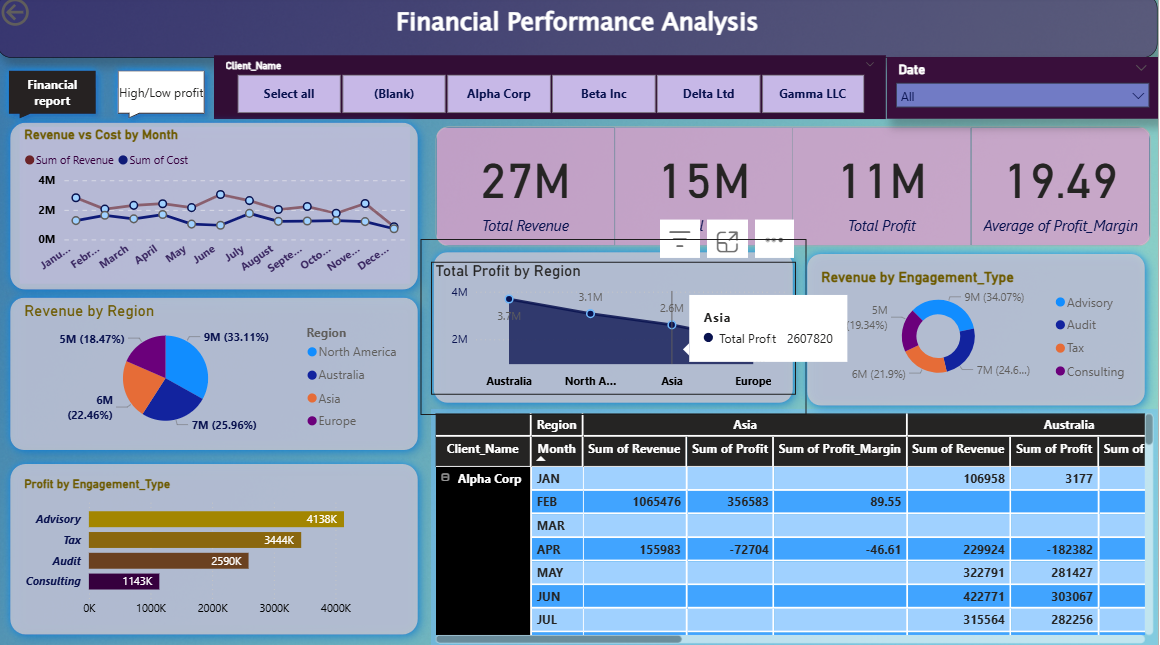

The dashboard page shown, as its layout file describes it:
{"tool":"powerbi","page":{"name":"Financial report","canvas":[1280,720],"ordinal":0},"visuals":[{"type":"textbox","box":[0,0,1279.6,70.3],"z":0},{"type":"shape","box":[0,126.6,478.1,212.9],"z":1000,"group":"g1"},{"type":"lineChart","title":" Revenue vs  Cost by Month","fields":{"Y":["Sum(Fin_DB.Revenue)","Sum(Fin_DB.Cost)"],"Category":["Fin_DB.Date.Variation.Date Hierarchy.Month"]},"box":[24.1,146.7,429.9,172.8],"z":2000,"group":"g1"},{"type":"shape","box":[0,319.4,478.1,196.9],"z":3000,"group":"g2"},{"type":"shape","box":[0,502.2,478.1,217],"z":4000,"group":"g5"},{"type":"pieChart","title":" Revenue by Region","fields":{"Y":["Sum(Fin_DB.Revenue)"],"Category":["Fin_DB.Region"]},"box":[24.1,339.5,429.9,148.7],"z":5000,"group":"g2"},{"type":"barChart","title":" Profit by Engagement_Type","fields":{"Y":["Sum(Fin_DB.Profit)"],"Category":["Fin_DB.Engagement_Type"]},"box":[24.1,530.3,421.8,162.7],"z":6000,"group":"g5"},{"type":"cardVisual","fields":{"Data":["Fin_DB.Total Revenue","Fin_DB.Total Cost","Fin_DB.Total Profit","Avg(Fin_DB.Profit_Margin)"]},"box":[478.1,140.6,801.5,142.6],"z":7000},{"type":"pivotTable","fields":{"Rows":["Fin_DB.Client_Name","DATE TABLE.Month"],"Values":["Sum(Fin_DB.Revenue)","Sum(Fin_DB.Profit)","Sum(Fin_DB.Profit_Margin)"],"Columns":["Fin_DB.Region"]},"box":[478.1,456,801.5,263.2],"z":8000},{"type":"shape","box":[466,269.2,425.9,194.9],"z":9000,"group":"g3"},{"type":"shape","box":[879.9,271.2,401,196],"z":10000,"group":"g4"},{"type":"areaChart","fields":{"Y":["Fin_DB.Total Profit"],"Category":["Fin_DB.Region"]},"box":[478.1,293.3,401.8,146.6],"z":11000,"group":"g3"},{"type":"donutChart","title":" Revenue by Engagement_Type","fields":{"Y":["Sum(Fin_DB.Revenue)"],"Category":["Fin_DB.Engagement_Type"]},"box":[904,301.3,353.5,130.6],"z":12000,"group":"g4"},{"type":"slicer","fields":{"Values":["Fin_DB.Client_Name"]},"box":[239,68.3,741.2,70.3],"z":13000},{"type":"slicer","fields":{"Values":["Fin_DB.Date.Variation.Date Hierarchy.Year","Fin_DB.Date.Variation.Date Hierarchy.Month"]},"box":[980.3,70.3,299.3,68],"z":14000},{"type":"pageNavigator","box":[3.9,75.2,235.2,71.3],"z":15000},{"type":"actionButton","box":[0,0,100,40],"z":15001},{"type":"group","id":"g1","title":"Group 1","box":[0,126.6,478.1,212.9],"z":15002},{"type":"group","id":"g2","title":"Group 2","box":[0,319.4,478.1,196.9],"z":15003},{"type":"group","id":"g3","title":"Group 3","box":[466,269.2,425.9,194.9],"z":15004},{"type":"group","id":"g4","title":"Group 4","box":[879.9,271.2,401,196],"z":15005},{"type":"group","id":"g5","title":"Group 5","box":[0,502.2,478.1,217],"z":15006}]}

Visuals, with their boxes in screenshot pixels (x1, y1, x2, y2), scaled from the page's 1280x720 canvas onto the 1160x645 screenshot:
textbox: box=[0, 0, 1159, 63]
shape: box=[0, 113, 433, 304]
" Revenue vs  Cost by Month" lineChart: box=[22, 131, 411, 286]
shape: box=[0, 286, 433, 463]
shape: box=[0, 450, 433, 644]
" Revenue by Region" pieChart: box=[22, 304, 411, 437]
" Profit by Engagement_Type" barChart: box=[22, 475, 404, 621]
cardVisual - Fin_DB.Total Revenue x Fin_DB.Total Cost: box=[433, 126, 1159, 254]
pivotTable - Fin_DB.Client_Name x DATE TABLE.Month: box=[433, 408, 1159, 644]
shape: box=[422, 241, 808, 416]
shape: box=[797, 243, 1159, 419]
areaChart - Fin_DB.Total Profit x Fin_DB.Region: box=[433, 263, 797, 394]
" Revenue by Engagement_Type" donutChart: box=[819, 270, 1140, 387]
slicer - Fin_DB.Client_Name: box=[217, 61, 888, 124]
slicer - Fin_DB.Date.Variation.Date Hierarchy.Year x Fin_DB.Date.Variation.Date Hierarchy.Month: box=[888, 63, 1159, 124]
pageNavigator: box=[4, 67, 217, 131]
actionButton: box=[0, 0, 91, 36]
"Group 1" group: box=[0, 113, 433, 304]
"Group 2" group: box=[0, 286, 433, 463]
"Group 3" group: box=[422, 241, 808, 416]
"Group 4" group: box=[797, 243, 1159, 419]
"Group 5" group: box=[0, 450, 433, 644]
